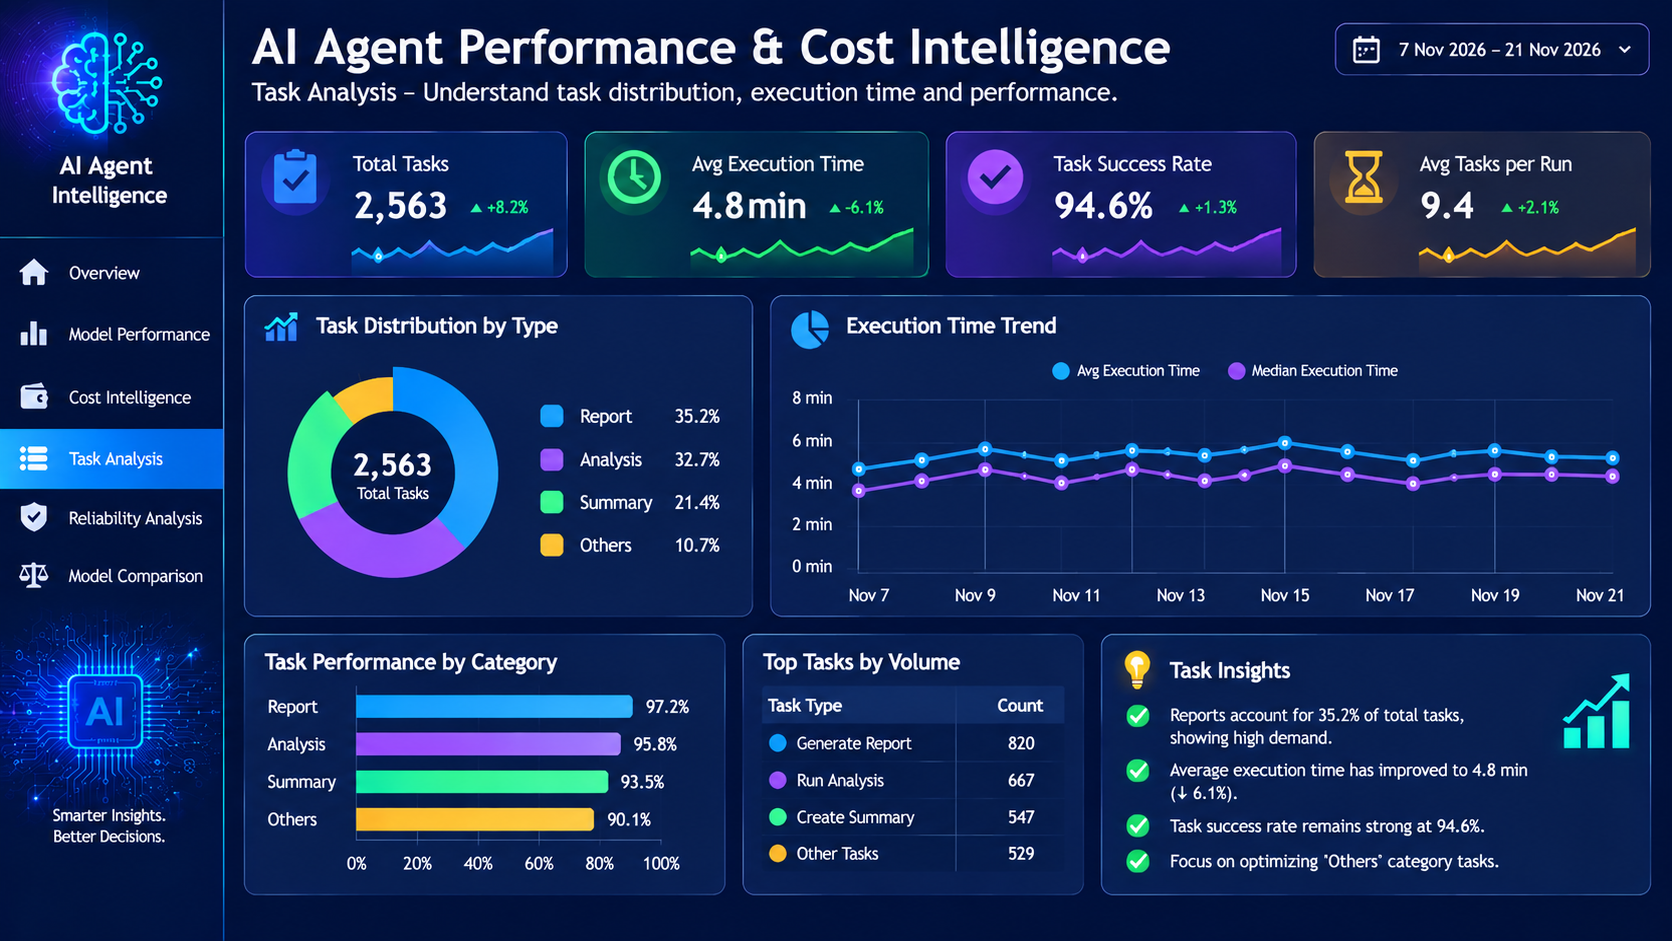

Layout of this report page (visuals, bound fields, positions):
{"tool":"powerbi","page":{"name":"Task Analysis","canvas":[1920,1080],"ordinal":3},"visuals":[{"type":"image","box":[10.3,0,1910.1,1080.6],"z":0}]}

Visuals, with their boxes in screenshot pixels (x1, y1, x2, y2), scaled from the page's 1920x1080 canvas onto the 1672x941 screenshot:
image: Rect(9, 0, 1671, 940)
